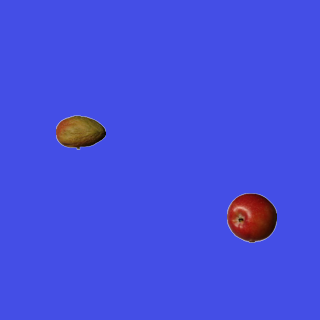Apple Braeburn: (226, 192, 276, 242)
Papaya: (55, 107, 105, 157)
